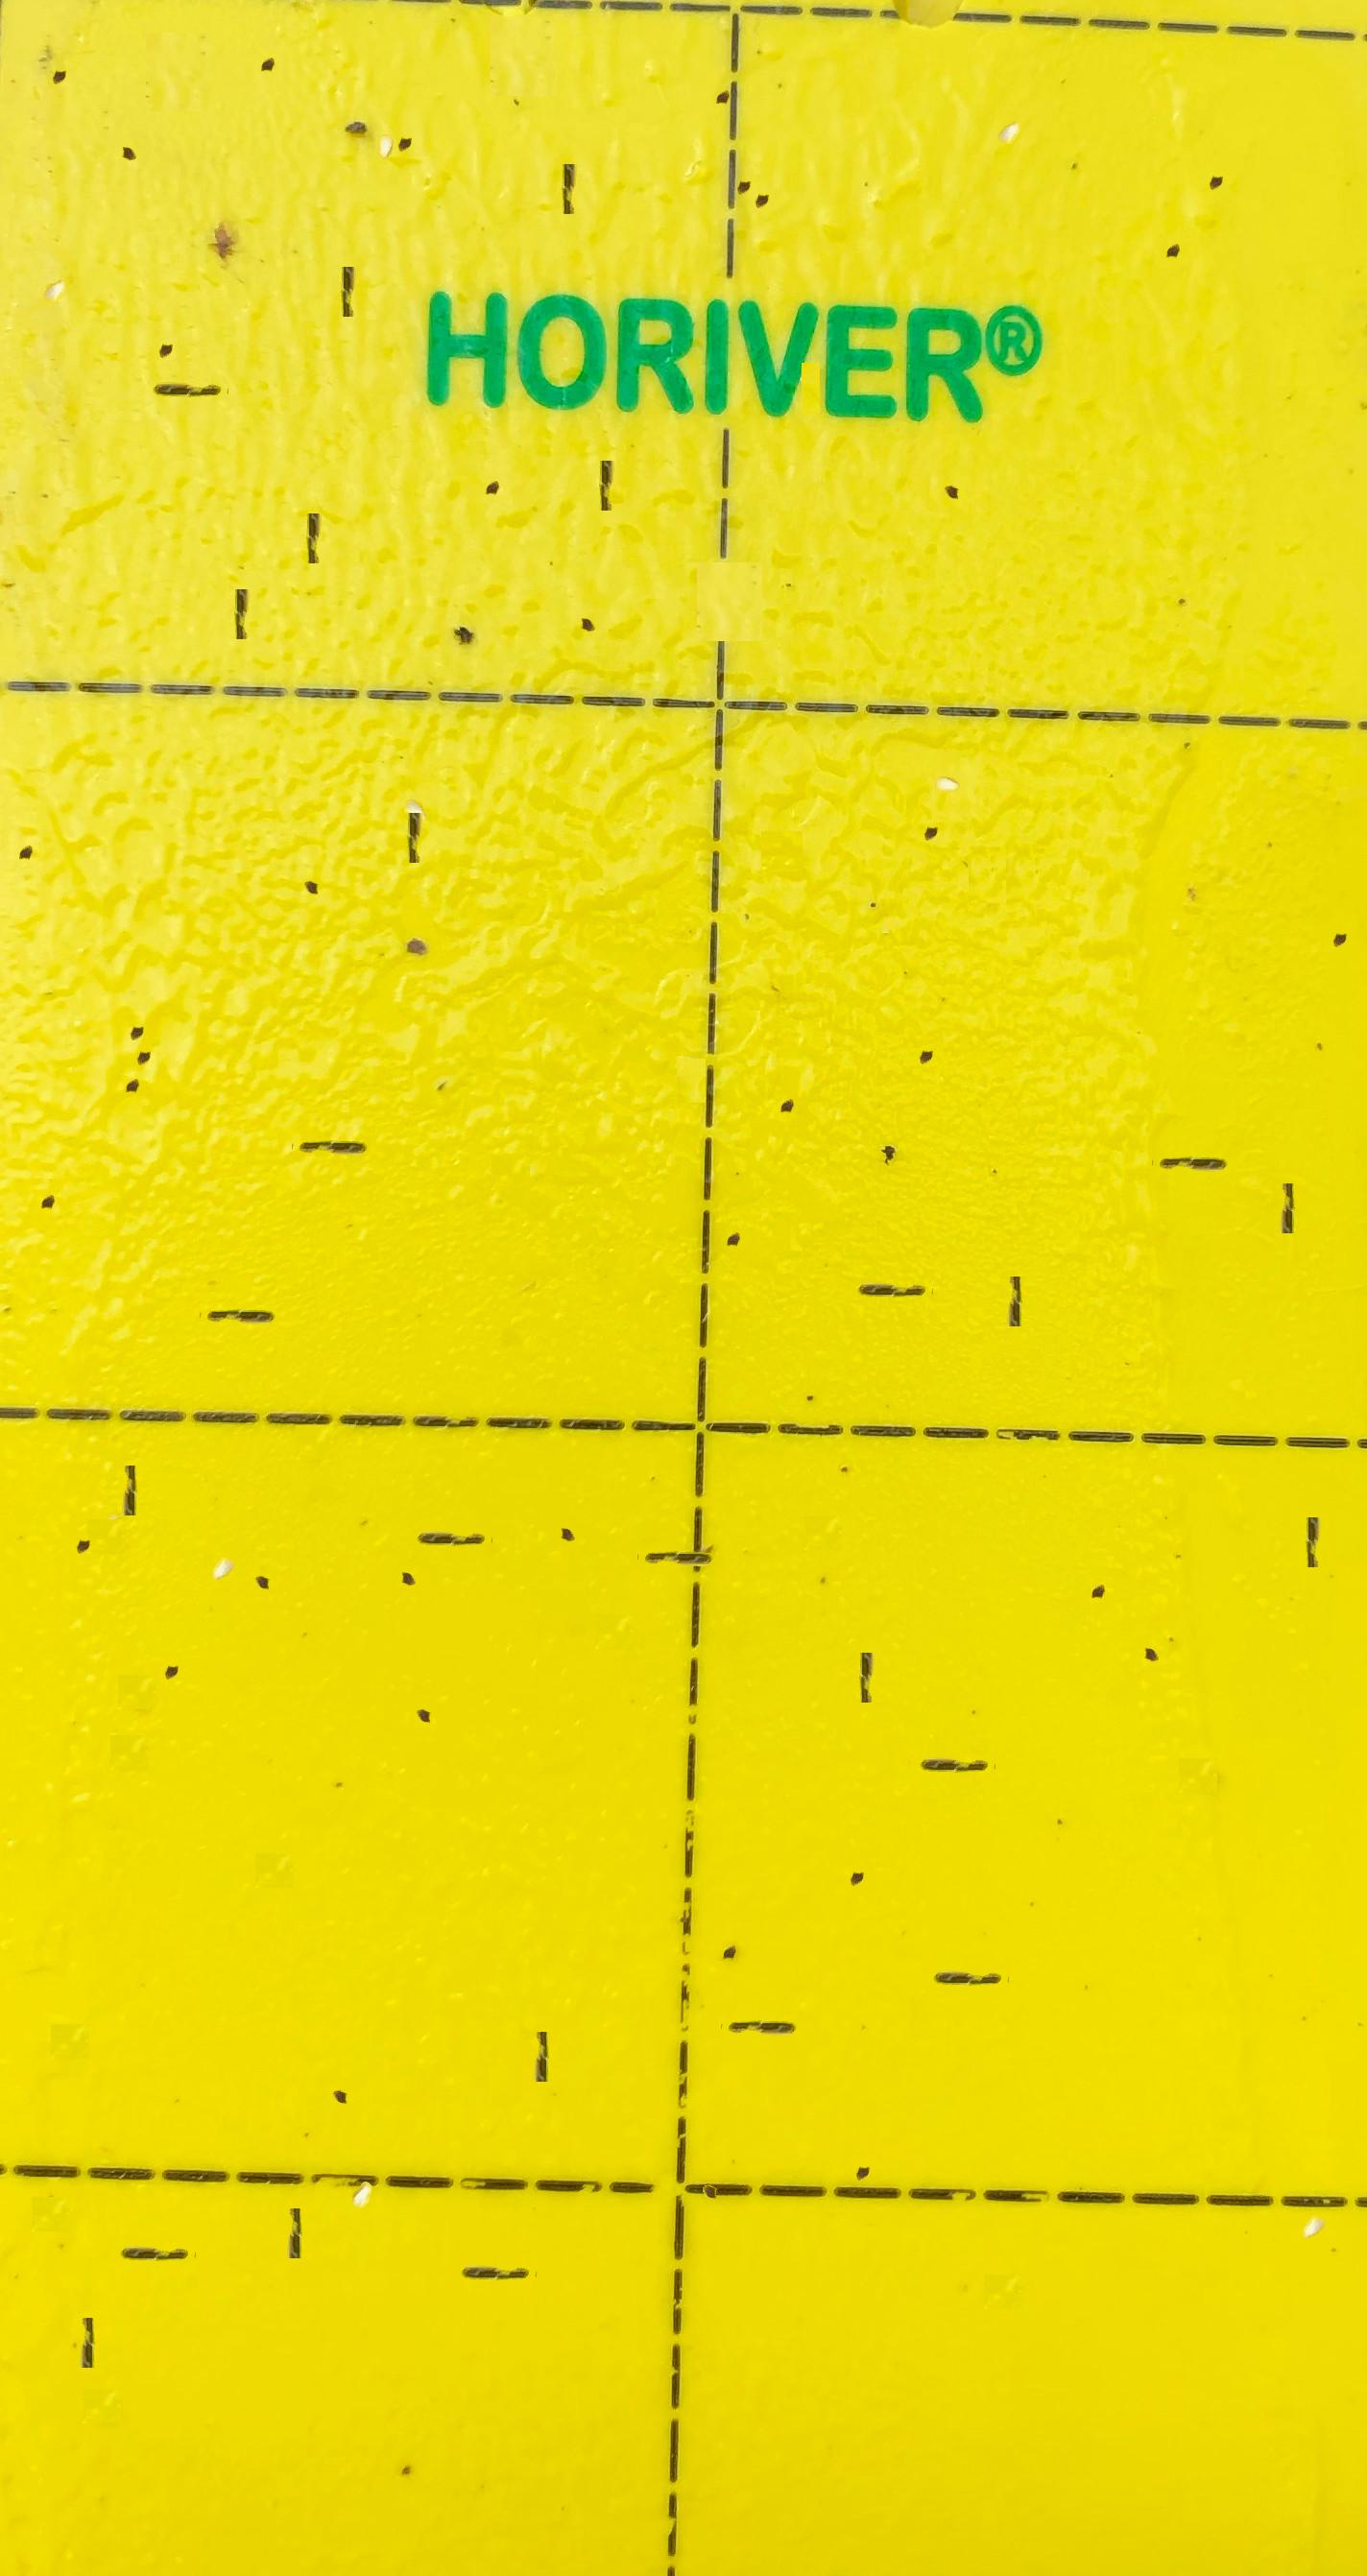white_fly: (203, 1503, 245, 1547), (394, 745, 436, 789), (343, 2131, 385, 2176), (989, 70, 1030, 112), (1294, 2162, 1335, 2205), (34, 228, 75, 271), (926, 726, 966, 763), (366, 89, 407, 126)
